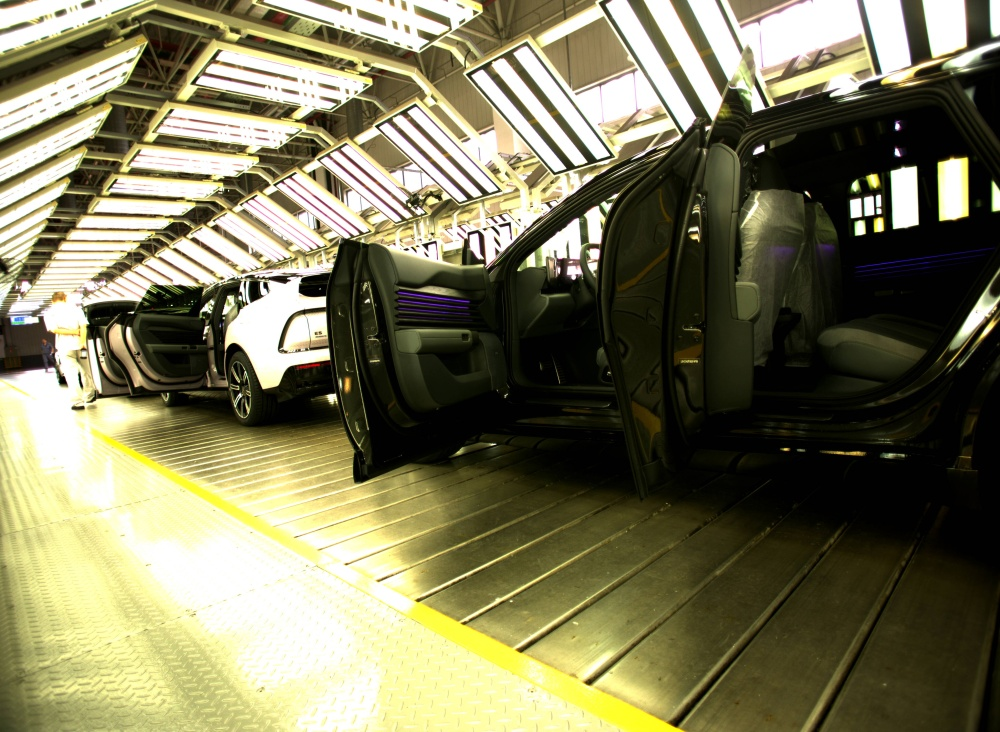armrest_color: (394, 326, 475, 354)
panel_color: (391, 281, 475, 330)
